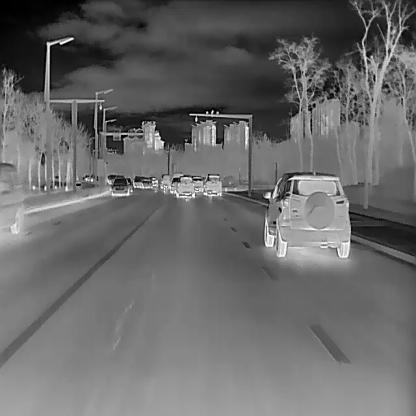car: (262, 170, 350, 256), (0, 161, 21, 234), (202, 172, 221, 195), (175, 176, 195, 197), (110, 177, 130, 195), (191, 175, 203, 190), (169, 176, 179, 193), (160, 172, 170, 188), (140, 175, 152, 187), (150, 175, 158, 187), (127, 177, 132, 191)
